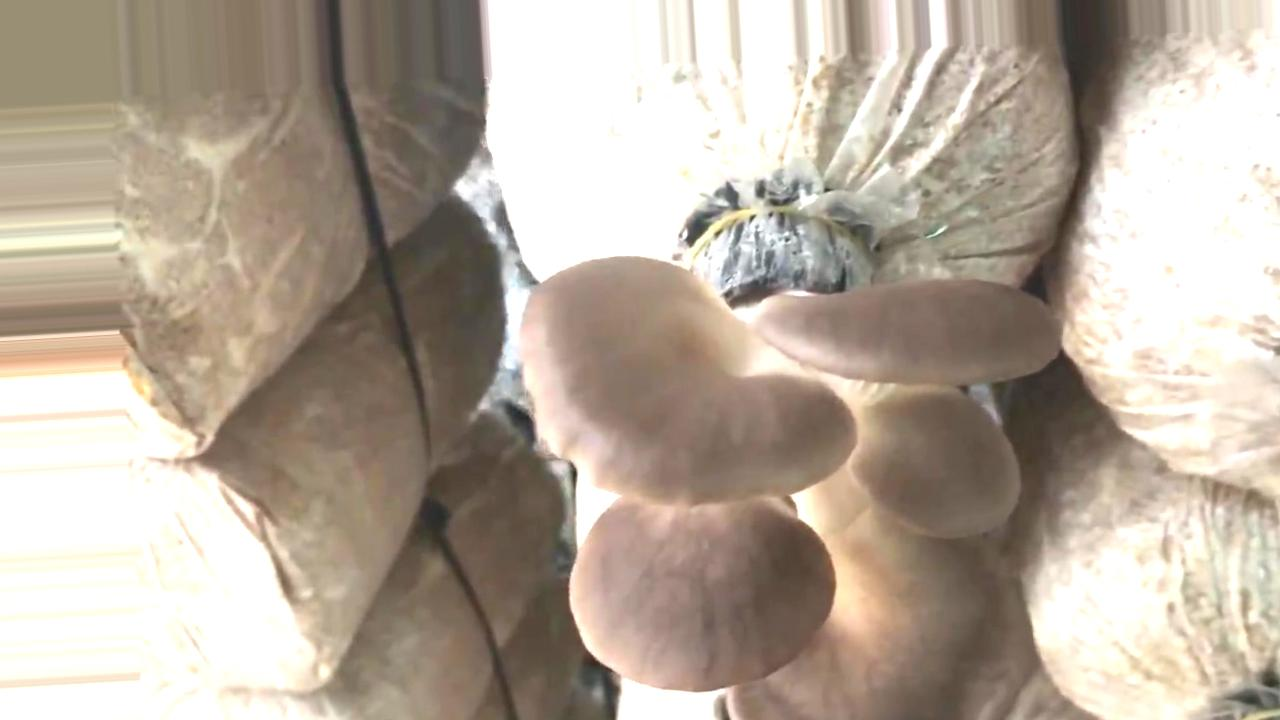nam: (517, 209, 1057, 719)
